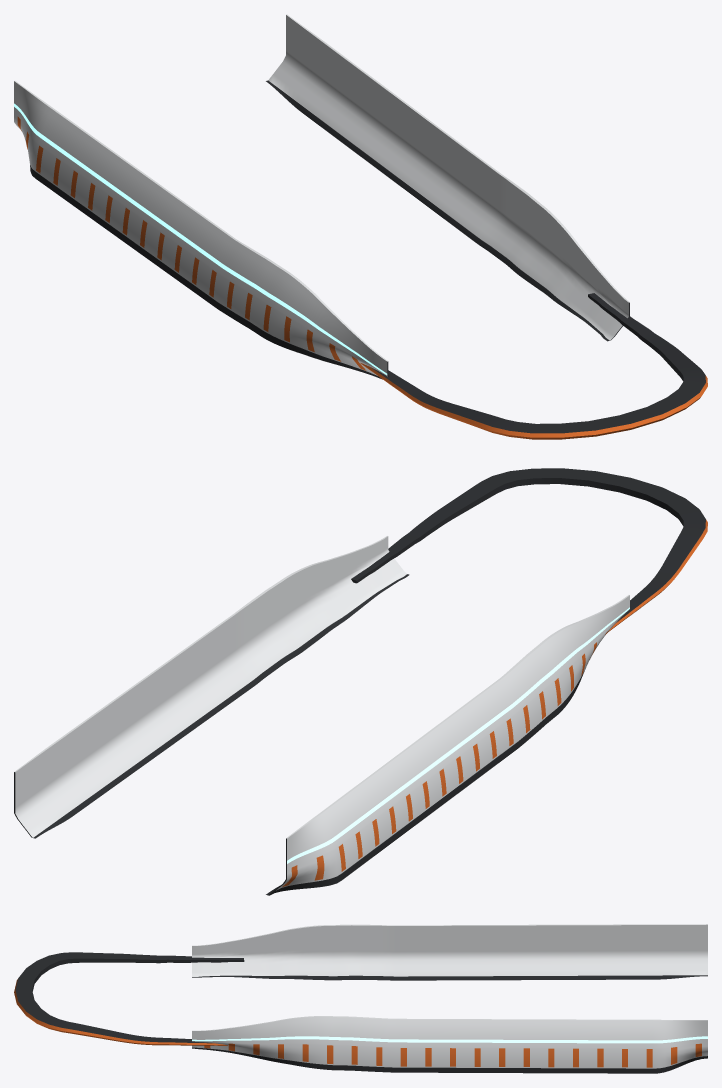
The model's file is nomad_armor_shell.fbx.
The picture shows the model from 3 angles, top to bottom: view 1: azimuth 30°, elevation 25°; view 2: azimuth 150°, elevation 25°; view 3: azimuth 270°, elevation 25°; orthographic projection. The views are drawn at different scales.
Visible parts, largest first — view 1: Armor_Shell; view 2: Armor_Shell; view 3: Armor_Shell.
Boxes of the visible parts, x1,y1,x2,y2 form: Armor_Shell: [14, 14, 707, 439]; Armor_Shell: [14, 468, 707, 895]; Armor_Shell: [14, 924, 707, 1073].
Bounding box in the file's own units: 166 × 35.16 × 452.
